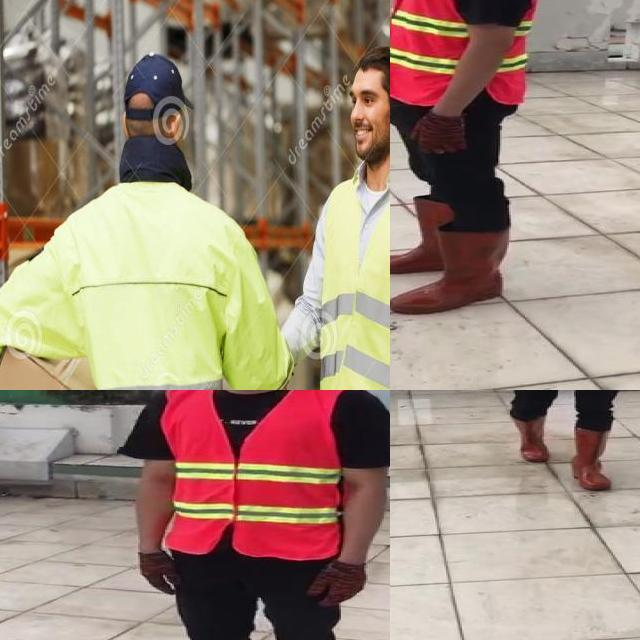BOOTS: (390, 229, 511, 315), (390, 199, 458, 275), (572, 424, 613, 491), (507, 413, 550, 461)
GLOVE: (307, 559, 368, 608), (410, 112, 469, 158), (140, 551, 188, 598)
VEST: (163, 390, 343, 558), (311, 158, 390, 390), (390, 0, 541, 107)
